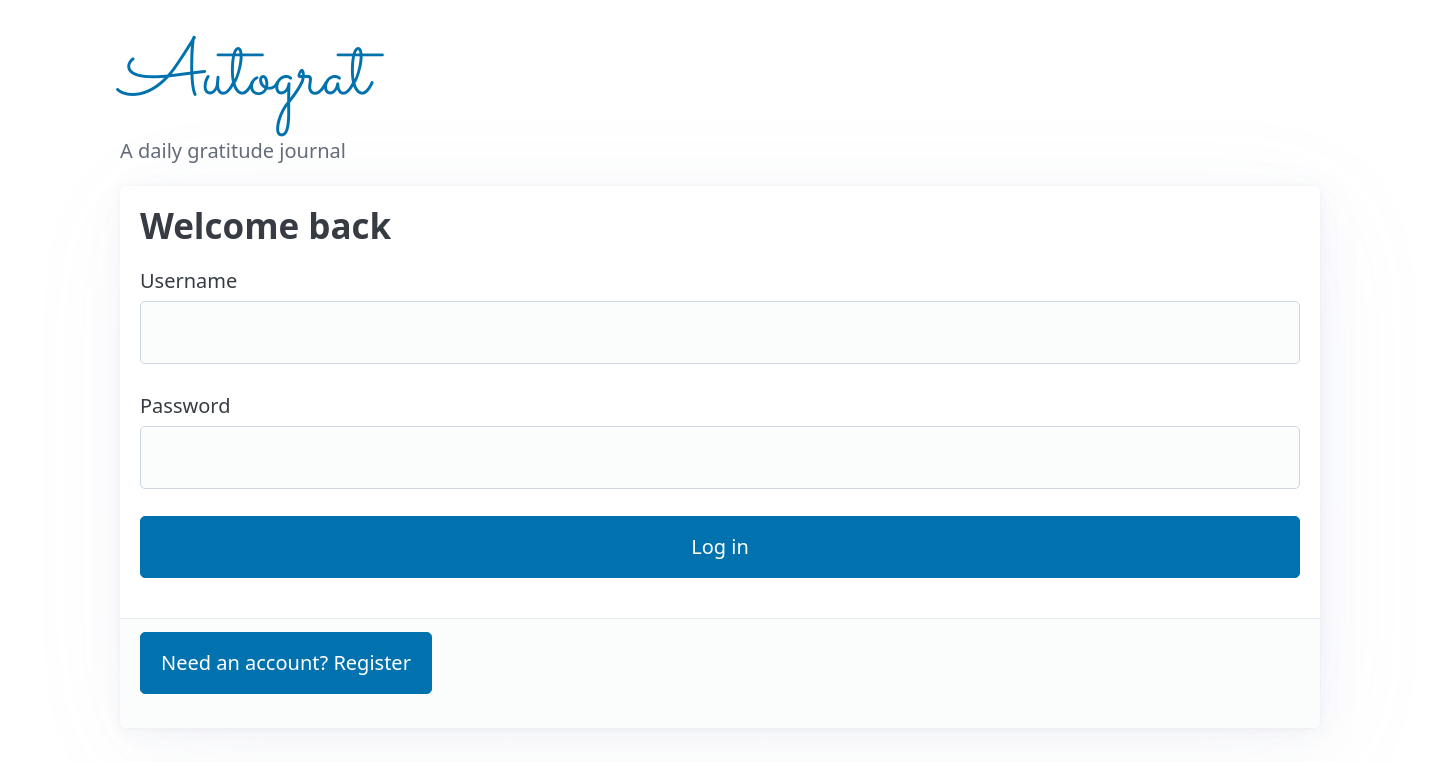
LoginPage › registers from the register form and shows conflicts
Click the button "Need an account? Register" at (286, 663), box 140,632 -> 432,694
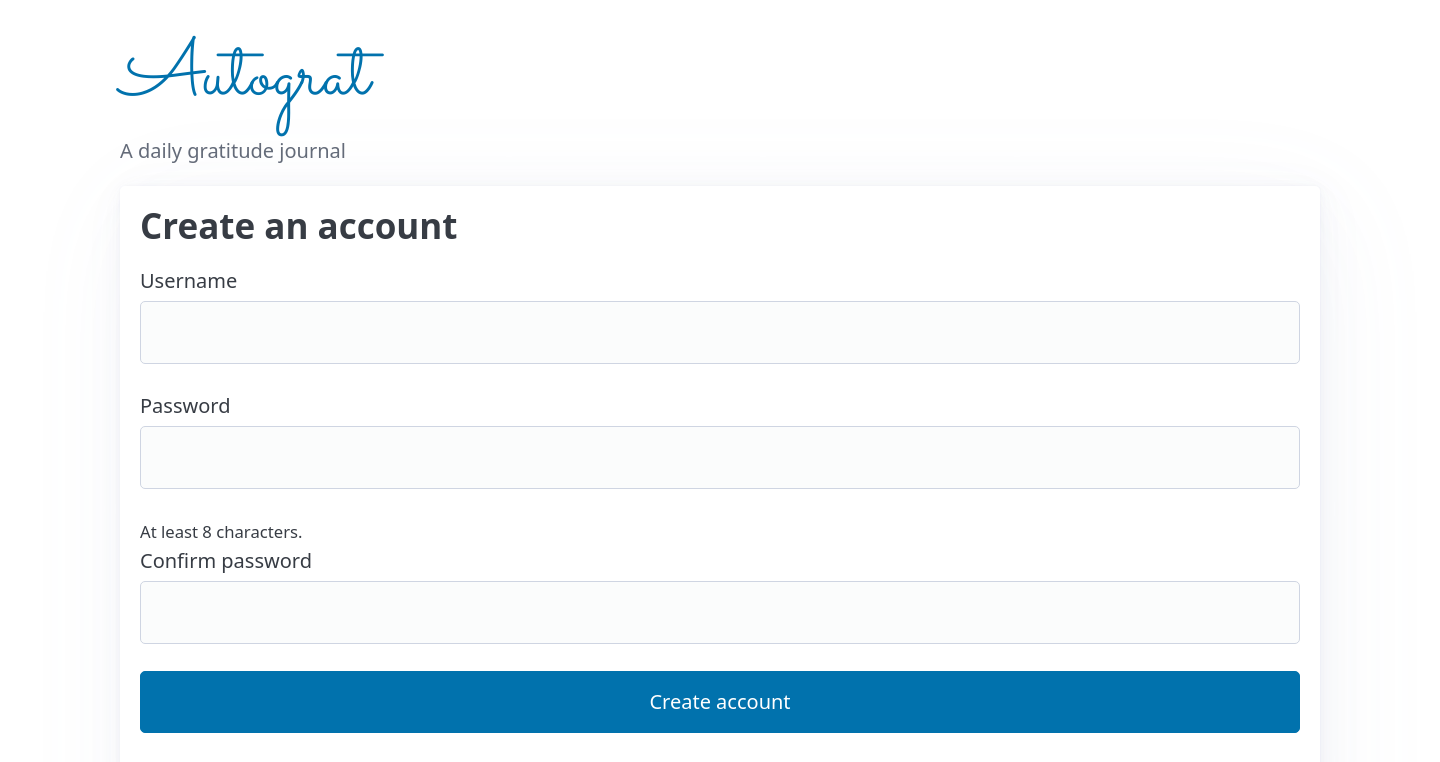
Type "billy" into the field labelled "Username" at (720, 333), box 140,301 -> 1300,364
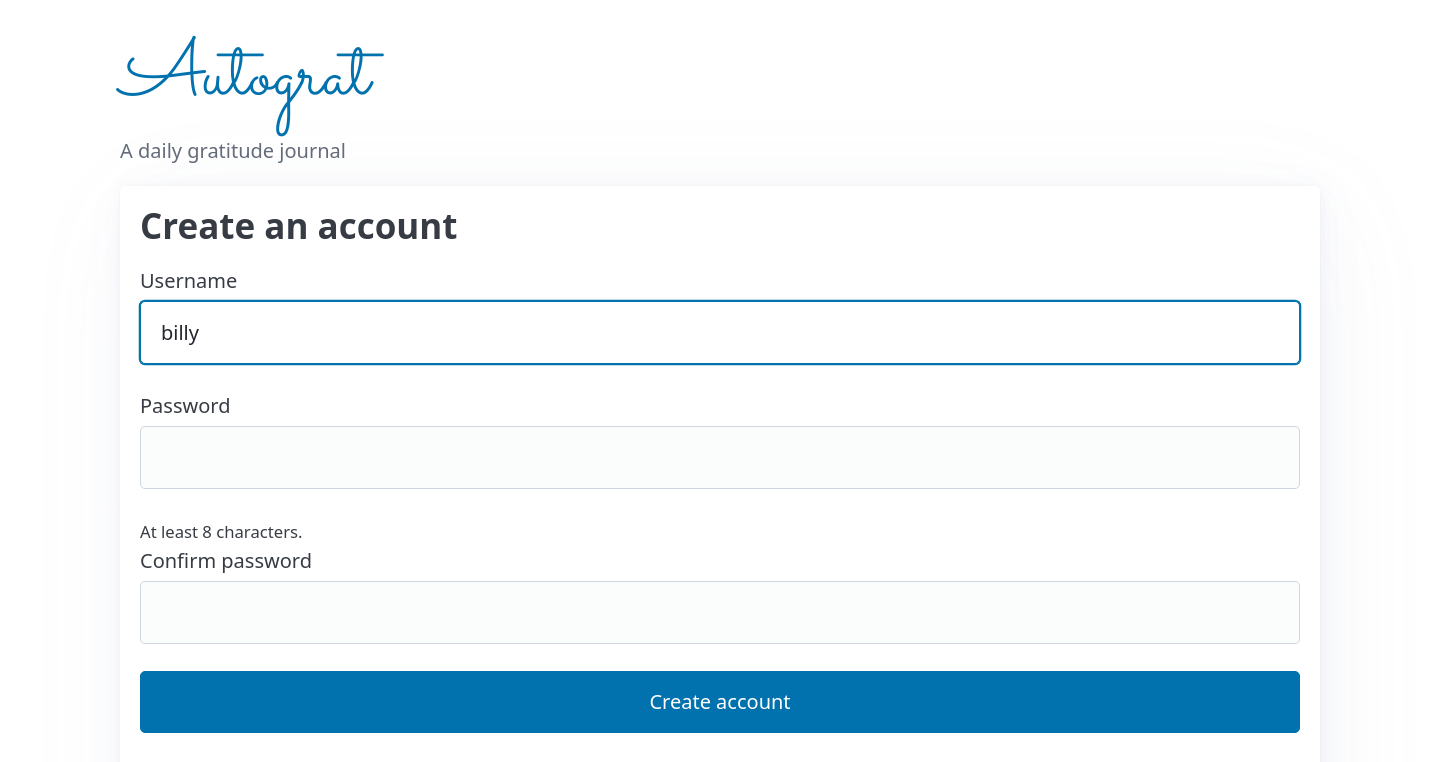
Type "password" into the password field labelled "Password" at (720, 458), box 140,426 -> 1300,489
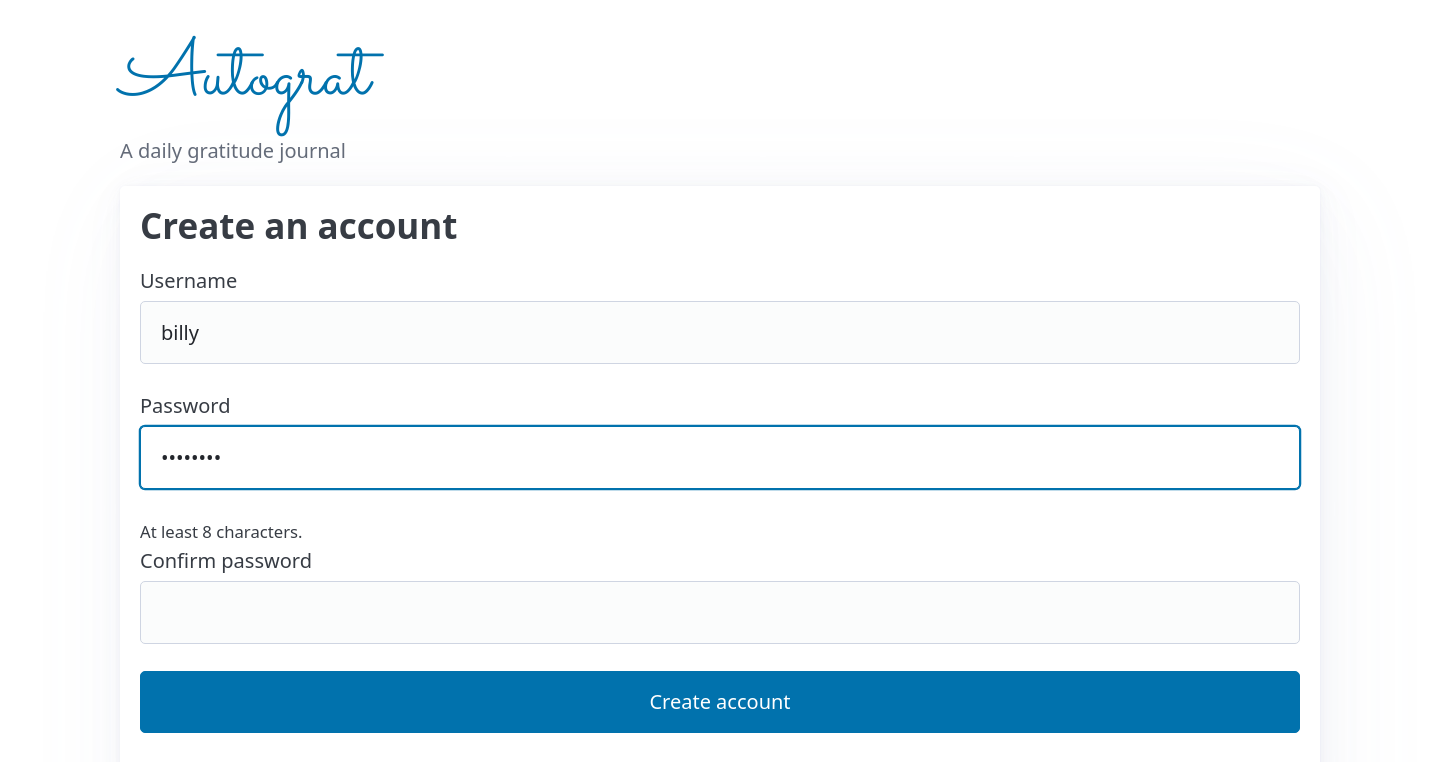
Type "password" into the password field labelled "Confirm password" at (720, 613), box 140,581 -> 1300,644
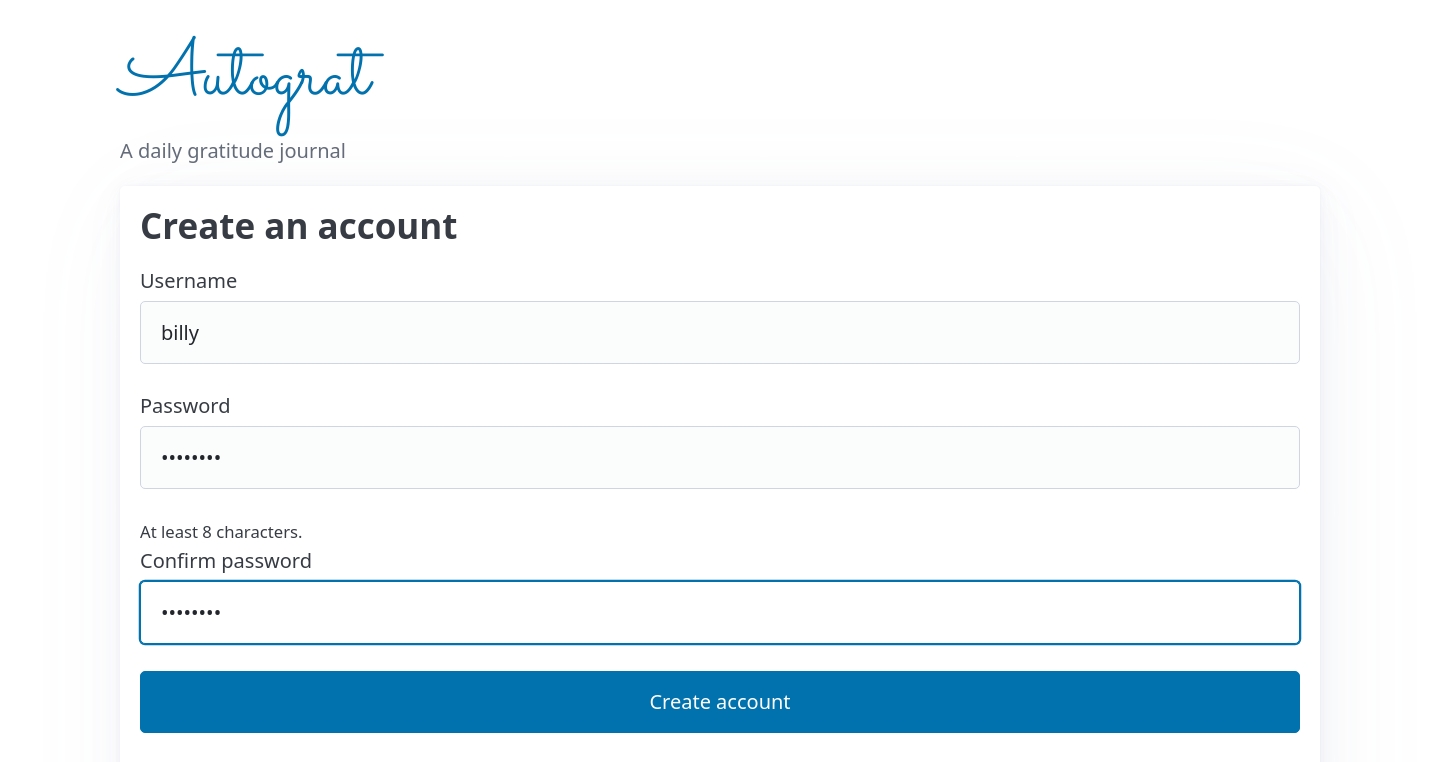
Click the button "Create account" at (720, 702), box 140,671 -> 1300,733
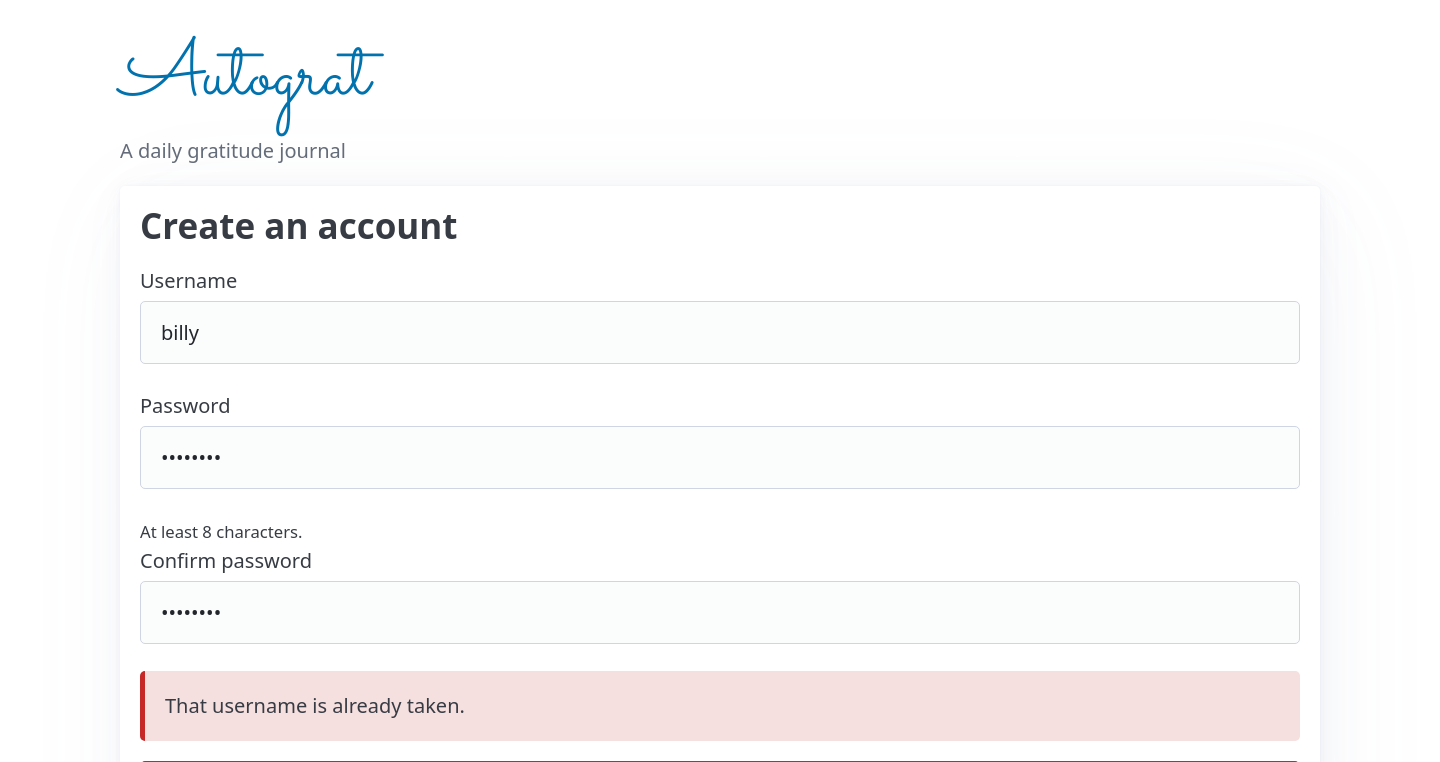
Check: the message reads "That username is already taken.", box 165,692 -> 465,719
